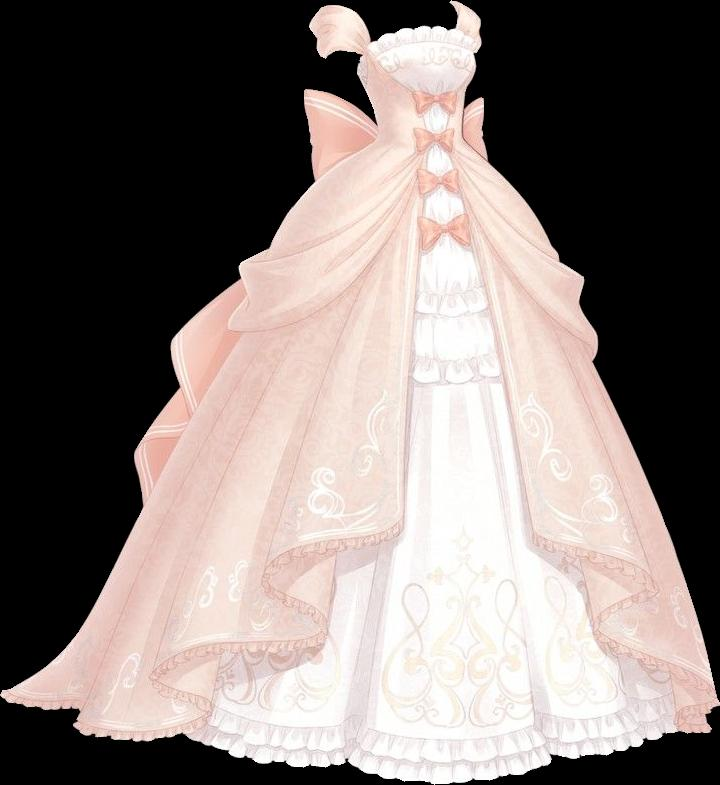Bodice: (357, 25, 481, 142)
Hemline: (0, 148, 430, 741), (444, 148, 716, 735), (229, 146, 429, 338), (445, 144, 598, 347), (188, 727, 683, 784), (405, 350, 500, 369), (412, 284, 487, 301)
Neckline: (367, 49, 431, 140), (362, 24, 481, 54), (442, 66, 476, 141)
Skirt: (0, 135, 718, 782)
Sleeve: (309, 5, 374, 58)
Sleeveline: (359, 38, 377, 54)
